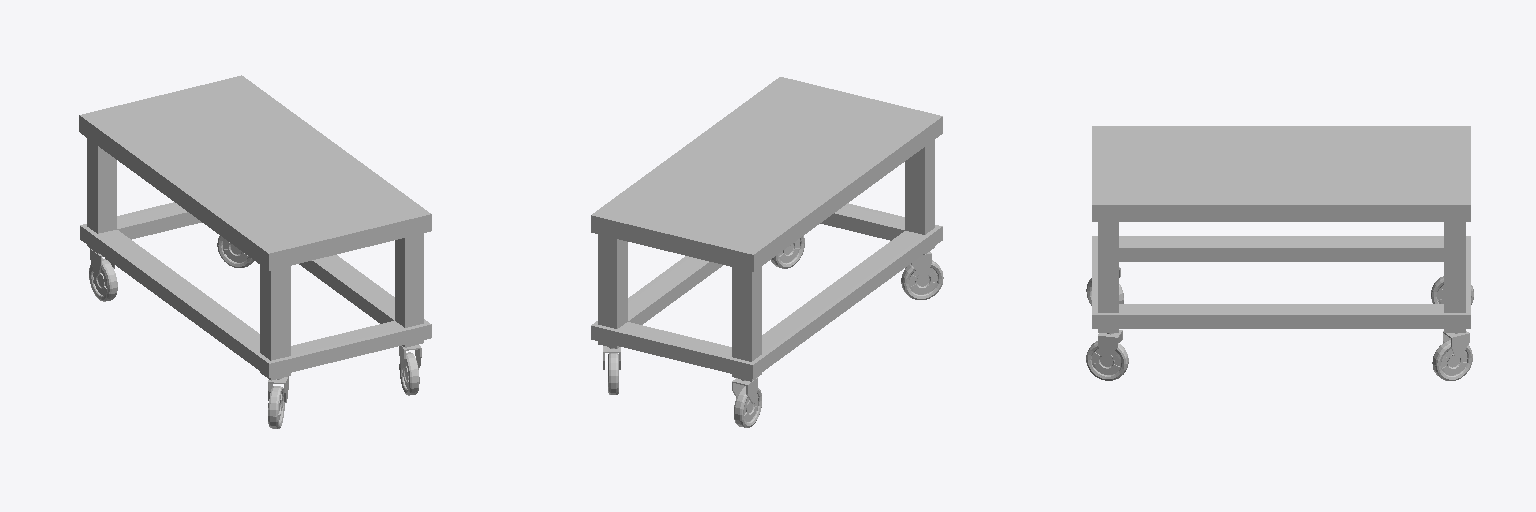
The model's file is tools-trolley.obj.
The picture shows the model from 3 angles: view 1: azimuth 30°, elevation 25°; view 2: azimuth 150°, elevation 25°; view 3: azimuth 270°, elevation 25°; orthographic projection.
Visible parts, largest first — view 1: SM_Tool_table_chassis.001, Cylinder.071, Cylinder.074, Cylinder.072, Cylinder.073; view 2: SM_Tool_table_chassis.001, Cylinder.072, Cylinder.071, Cylinder.074; view 3: SM_Tool_table_chassis.001, Cylinder.074, Cylinder.073.
Part boxes in pixels (x1,y1,x2,y2): SM_Tool_table_chassis.001: (79,75,431,380); Cylinder.071: (89,258,117,301); Cylinder.074: (399,352,419,395); Cylinder.072: (268,386,284,428); Cylinder.073: (217,236,253,267); SM_Tool_table_chassis.001: (591,77,942,381); Cylinder.072: (901,260,943,299); Cylinder.071: (734,386,761,427); Cylinder.074: (771,236,804,268); SM_Tool_table_chassis.001: (1092,126,1470,332); Cylinder.074: (1086,341,1128,380); Cylinder.073: (1432,340,1472,380).
Bounding box in the file's own units: 0.952 × 1.01 × 1.96.